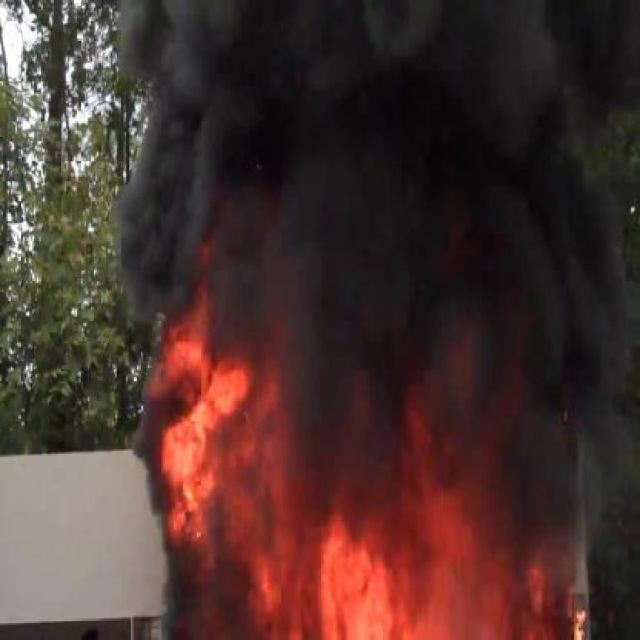fire: (134, 1, 258, 414), (200, 554, 474, 608), (396, 204, 421, 290)
